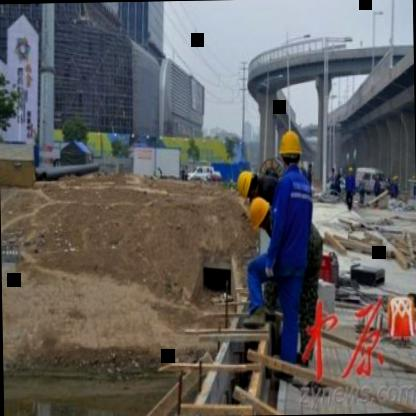helmet: (276, 126, 301, 172), (245, 195, 272, 236), (235, 170, 260, 202)
